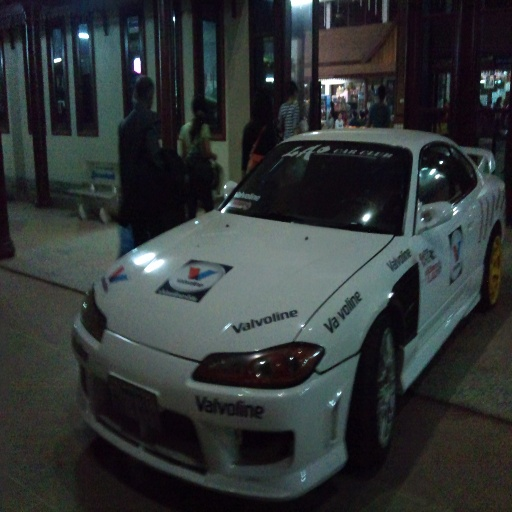hand: (212, 151, 218, 163)
